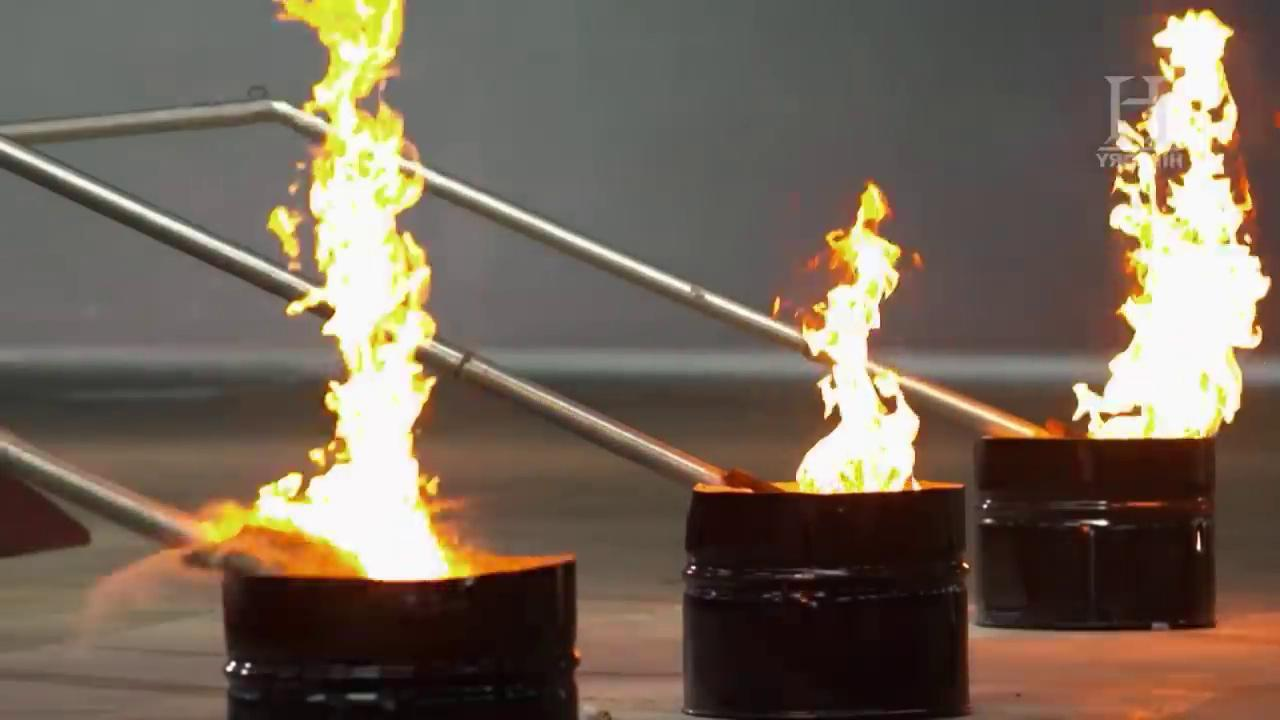Fire: (218, 13, 459, 572), (1058, 14, 1264, 449), (778, 182, 927, 501)
